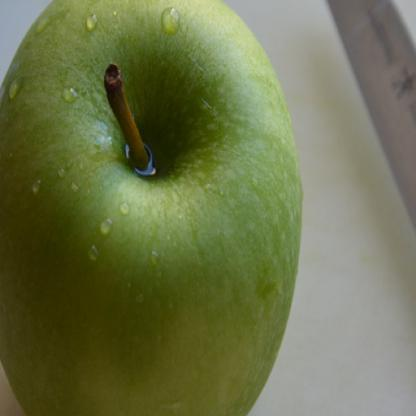knife: (307, 0, 415, 415)
